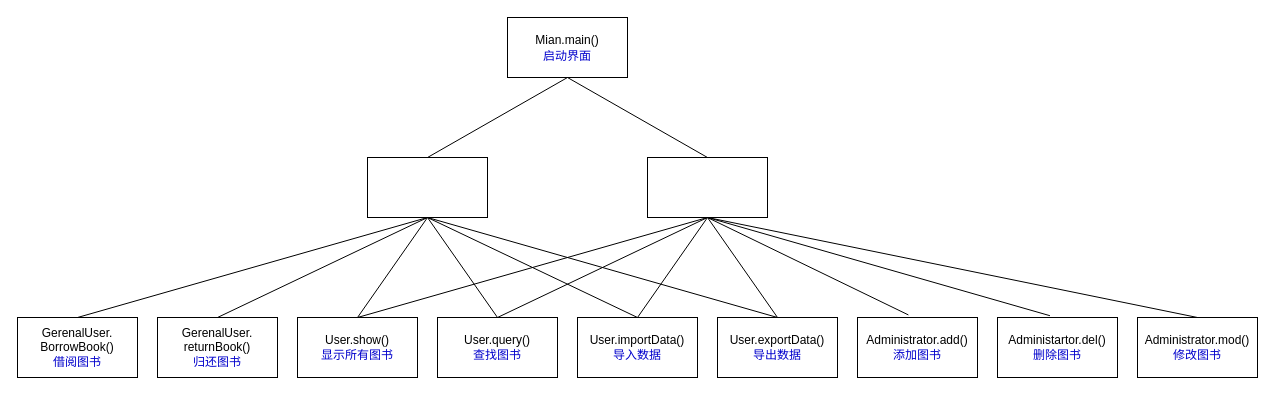
This 1275x395 diagram has some shape labels left out. Here are the shapes that lost their labels. From the top down, the box of each, then its label:
(366, 156, 488, 218): GerenalUser.menu() 普通用户菜单
(646, 156, 768, 218): Adminstrator.menu() 管理员菜单
